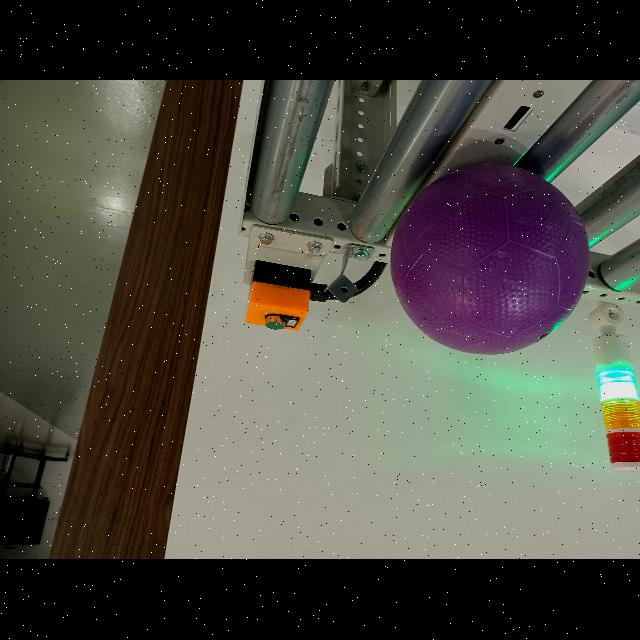P: (388, 160, 596, 360)
